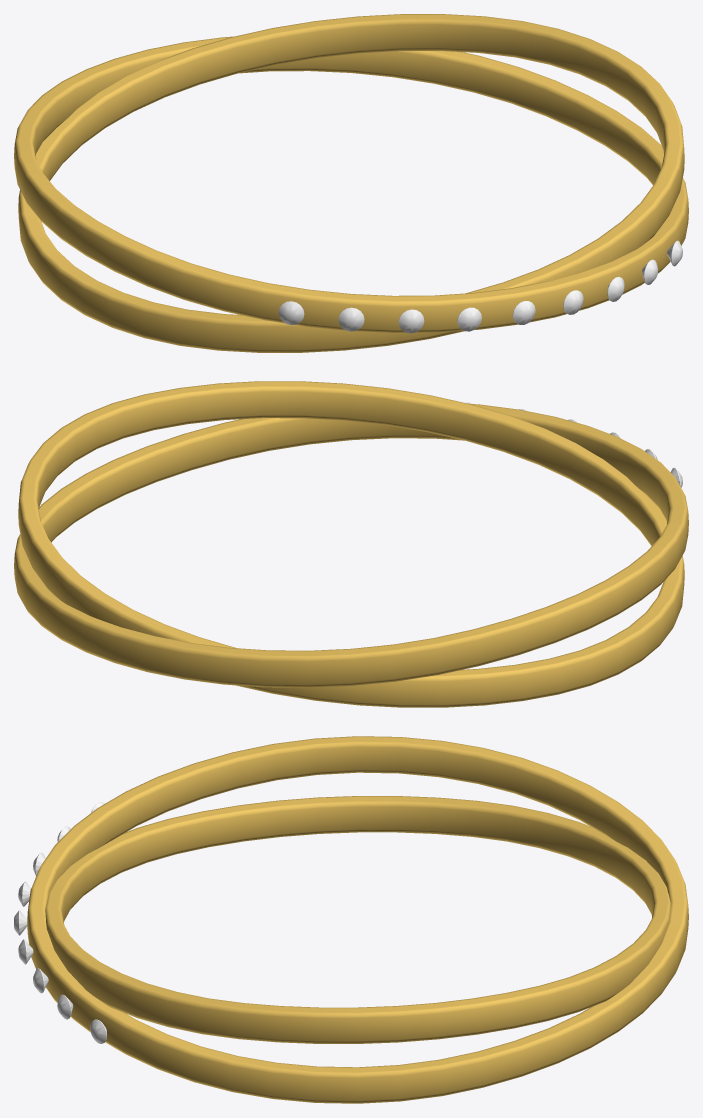
The model's file is 1-gold.fbx.
The picture shows the model from 3 angles, top to bottom: view 1: azimuth 30°, elevation 25°; view 2: azimuth 150°, elevation 25°; view 3: azimuth 270°, elevation 25°; orthographic projection.
Visible parts, largest first — view 1: Cylinder002, Cylinder001; view 2: Cylinder002, Cylinder001; view 3: Cylinder001, Cylinder002.
Part boxes in pixels (left/top/right/bottom): Cylinder002: left=18, top=14, right=684, bottom=352; Cylinder001: left=14, top=36, right=688, bottom=332; Cylinder002: left=18, top=381, right=684, bottom=707; Cylinder001: left=14, top=403, right=688, bottom=687; Cylinder001: left=27, top=736, right=688, bottom=1103; Cylinder002: left=45, top=796, right=670, bottom=1043.
Size of the model in its own units: 19.83 by 3 by 20.22.
